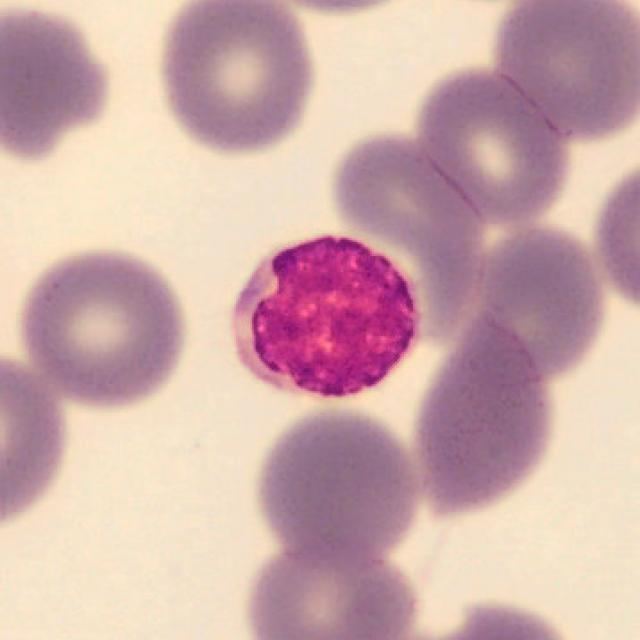Linfocito: (232, 236, 418, 402)
